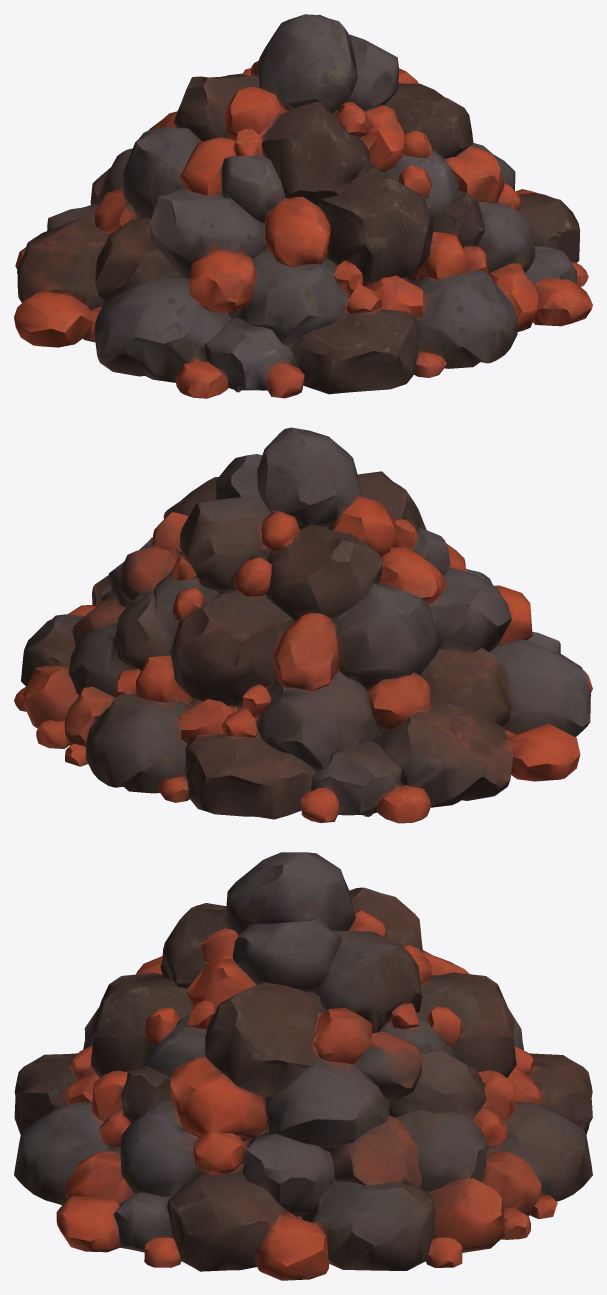
File: mine_ore_pile_idle.glb
3 views of the same model, one above another, from view 1: azimuth 30°, elevation 25°; view 2: azimuth 150°, elevation 25°; view 3: azimuth 270°, elevation 25° (orthographic). The views are drawn at different scales.
Visible parts, largest first — view 1: tripo_node_2e44202f-b85e-4cd1-82e1-c09acbcb485c; view 2: tripo_node_2e44202f-b85e-4cd1-82e1-c09acbcb485c; view 3: tripo_node_2e44202f-b85e-4cd1-82e1-c09acbcb485c.
Part boxes in pixels (x1,y1,x2,y2): tripo_node_2e44202f-b85e-4cd1-82e1-c09acbcb485c: (14, 14, 592, 398); tripo_node_2e44202f-b85e-4cd1-82e1-c09acbcb485c: (14, 427, 592, 823); tripo_node_2e44202f-b85e-4cd1-82e1-c09acbcb485c: (14, 852, 592, 1280).
Bounding box in the file's own units: 1.62 × 0.8009 × 1.41.
Materials: 1 (1 with a texture image).
